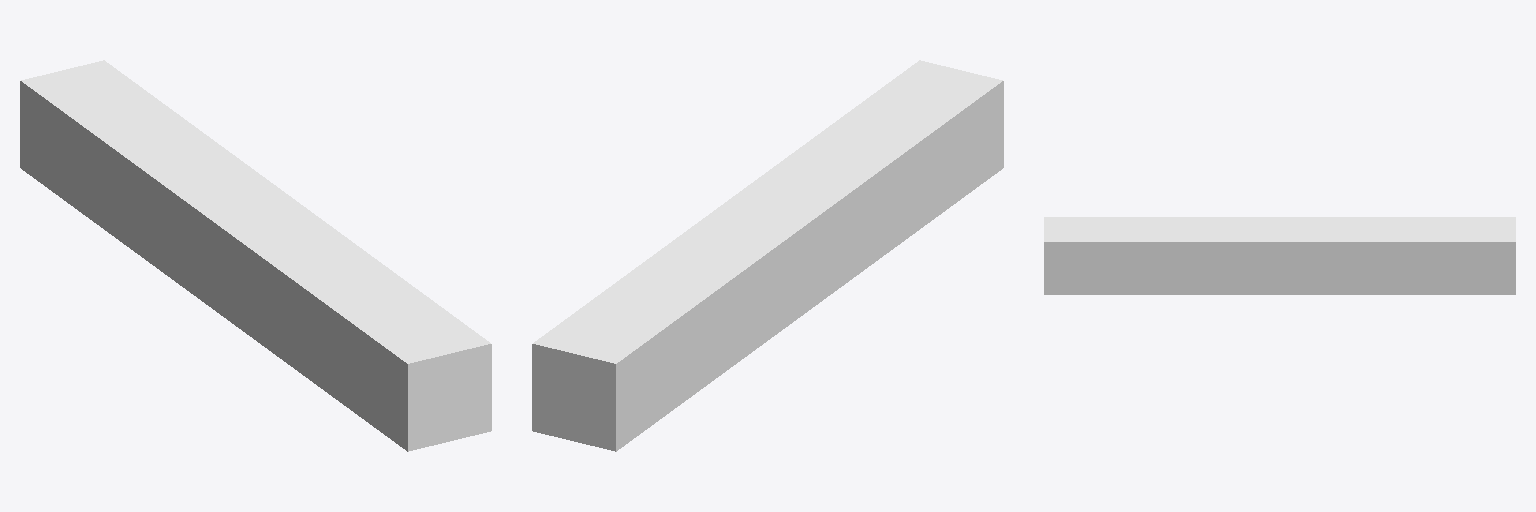
The robot description file, URDF, robot "custom":
<?xml version="1.0"?>
<robot name="custom">
  <material name="Blanc">
    <color rgba="1.0 1.0 1.0 1.0"/>
  </material>
  <link name="base_link">
    <visual>
      <origin xyz="0 0 0" rpy="0 0 0"/>
      <geometry>
        <mesh filename="rod.obj" scale="1 1 1"/>
      </geometry>
      <material name="Blanc"/>
    </visual>
    <collision>
      <origin xyz="0 0 0" rpy="0 0 0"/>
      <geometry>
	 	     <mesh filename="rod.obj" scale="1 1 1"/>
      </geometry>
    </collision>
    <contact>
      <lateral_friction value="3.0"/>
      <rolling_friction value="0.0001"/>
      <inertia_scaling value="3.0"/>
    </contact>
    <inertial>
      <origin rpy="0 0 0" xyz="0 0 0"/>
       <mass value="0.05"/>
       <inertia ixx="1" ixy="0" ixz="0" iyy="1" iyz="0" izz="1"/>
    </inertial>
  </link>

</robot>

--- What the picture shows (computed from the rendered views, not written in the file) ---
Views: 3 orthographic renders of the robot side by side, from view 1: azimuth 30°, elevation 25°; view 2: azimuth 150°, elevation 25°; view 3: azimuth 270°, elevation 25°.
Robot: custom — 1 links, 0 joints (none); root link base_link; default pose: every joint at zero.
Links seen in each view (by area): view 1: base_link; view 2: base_link; view 3: base_link.
Boxes of the visible links, box(x1,y1,x2,y2) form: base_link: box(20, 60, 491, 451); base_link: box(532, 60, 1003, 451); base_link: box(1044, 217, 1515, 294).
Size in the robot's own frame: 0.02 by 0.16 by 0.02 metres.
1 mesh visuals loaded from 1 distinct referenced files (1 OBJ).
